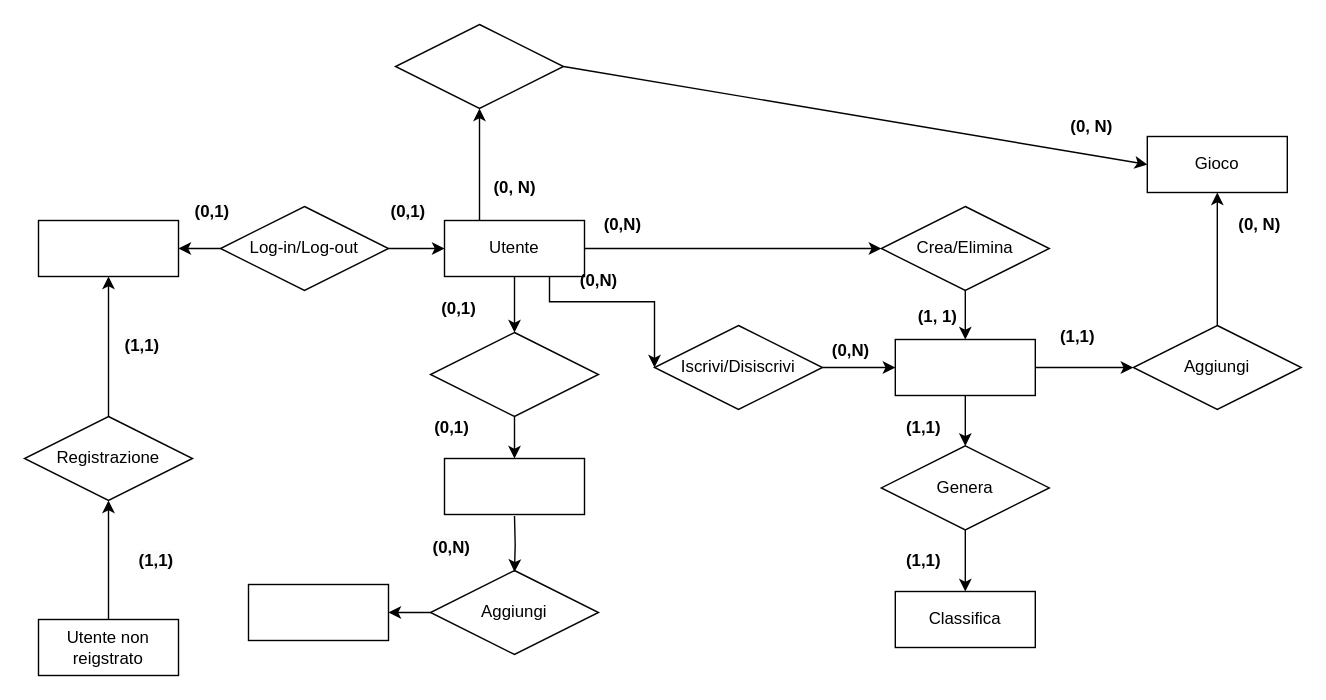
Image size: 1326x700. Some labels were removed from this diagram. The shapes that lost their labels are listed below. From the top down, each one's centre as x and y in pixels, then its label:
At [479,65]: "Aggiungi/Rimuovi Preferito".
At [107,247]: "Gestione Accesso".
At [513,373]: "Modifica/Elimina".
At [964,367]: "Torneo".
At [513,485]: "Account".
At [317,611]: "Amici".
